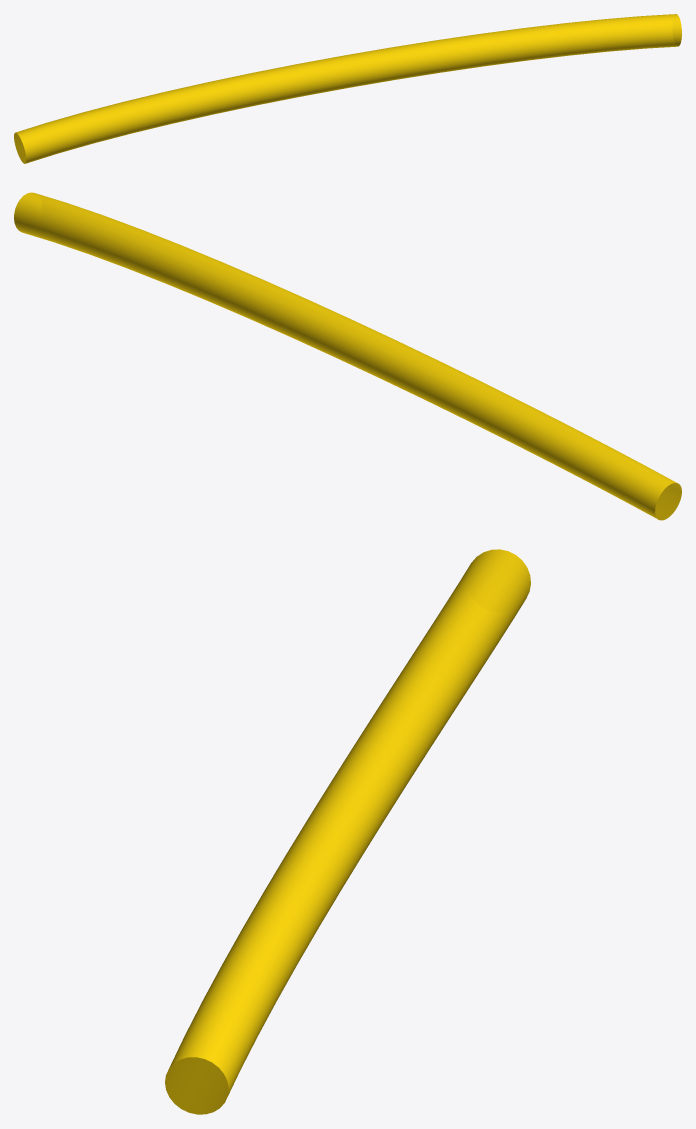
Rendered from Event_420094457_track_73.fbx.
The picture shows the model from 3 angles, top to bottom: view 1: azimuth 30°, elevation 25°; view 2: azimuth 150°, elevation 25°; view 3: azimuth 270°, elevation 25°; orthographic projection. The views are drawn at different scales.
Visible parts, largest first — view 1: Model; view 2: Model; view 3: Model.
Boxes of the visible parts, x1,y1,x2,y2 form: Model: (14,14,681,163); Model: (14,192,681,520); Model: (165,549,530,1114).
Bounding box in the file's own units: 0.8277 × 0.0886 × 0.2231.
